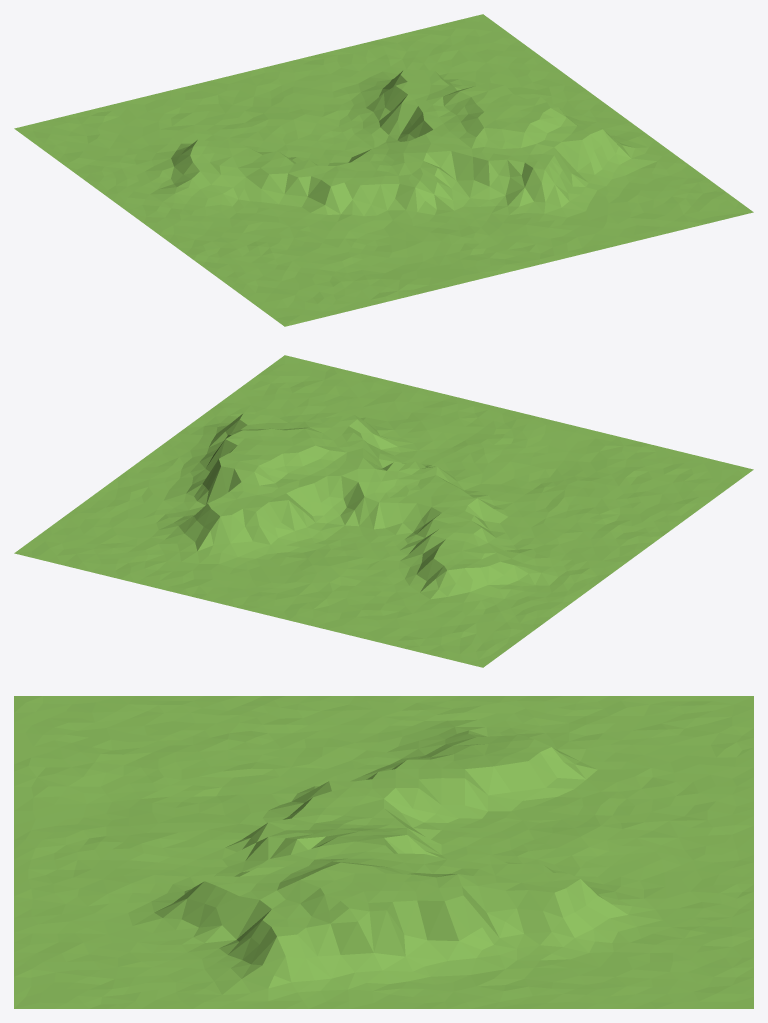
File: MT_Terrain_L_d_08_LOD.fbx
3 renders of one model, top to bottom at view 1: azimuth 30°, elevation 25°; view 2: azimuth 150°, elevation 25°; view 3: azimuth 270°, elevation 25°, orthographic. The views are drawn at different scales.
Visible parts, largest first — view 1: MT_Terrain_L_d_08_LOD0; view 2: MT_Terrain_L_d_08_LOD0; view 3: MT_Terrain_L_d_08_LOD0.
Boxes of the visible parts, left/top/right/bottom form: MT_Terrain_L_d_08_LOD0: left=14, top=14, right=753, bottom=326; MT_Terrain_L_d_08_LOD0: left=14, top=355, right=753, bottom=667; MT_Terrain_L_d_08_LOD0: left=14, top=696, right=753, bottom=1008.
Size of what is drawn, in the model's own units: 10000 by 749 by 10000.
